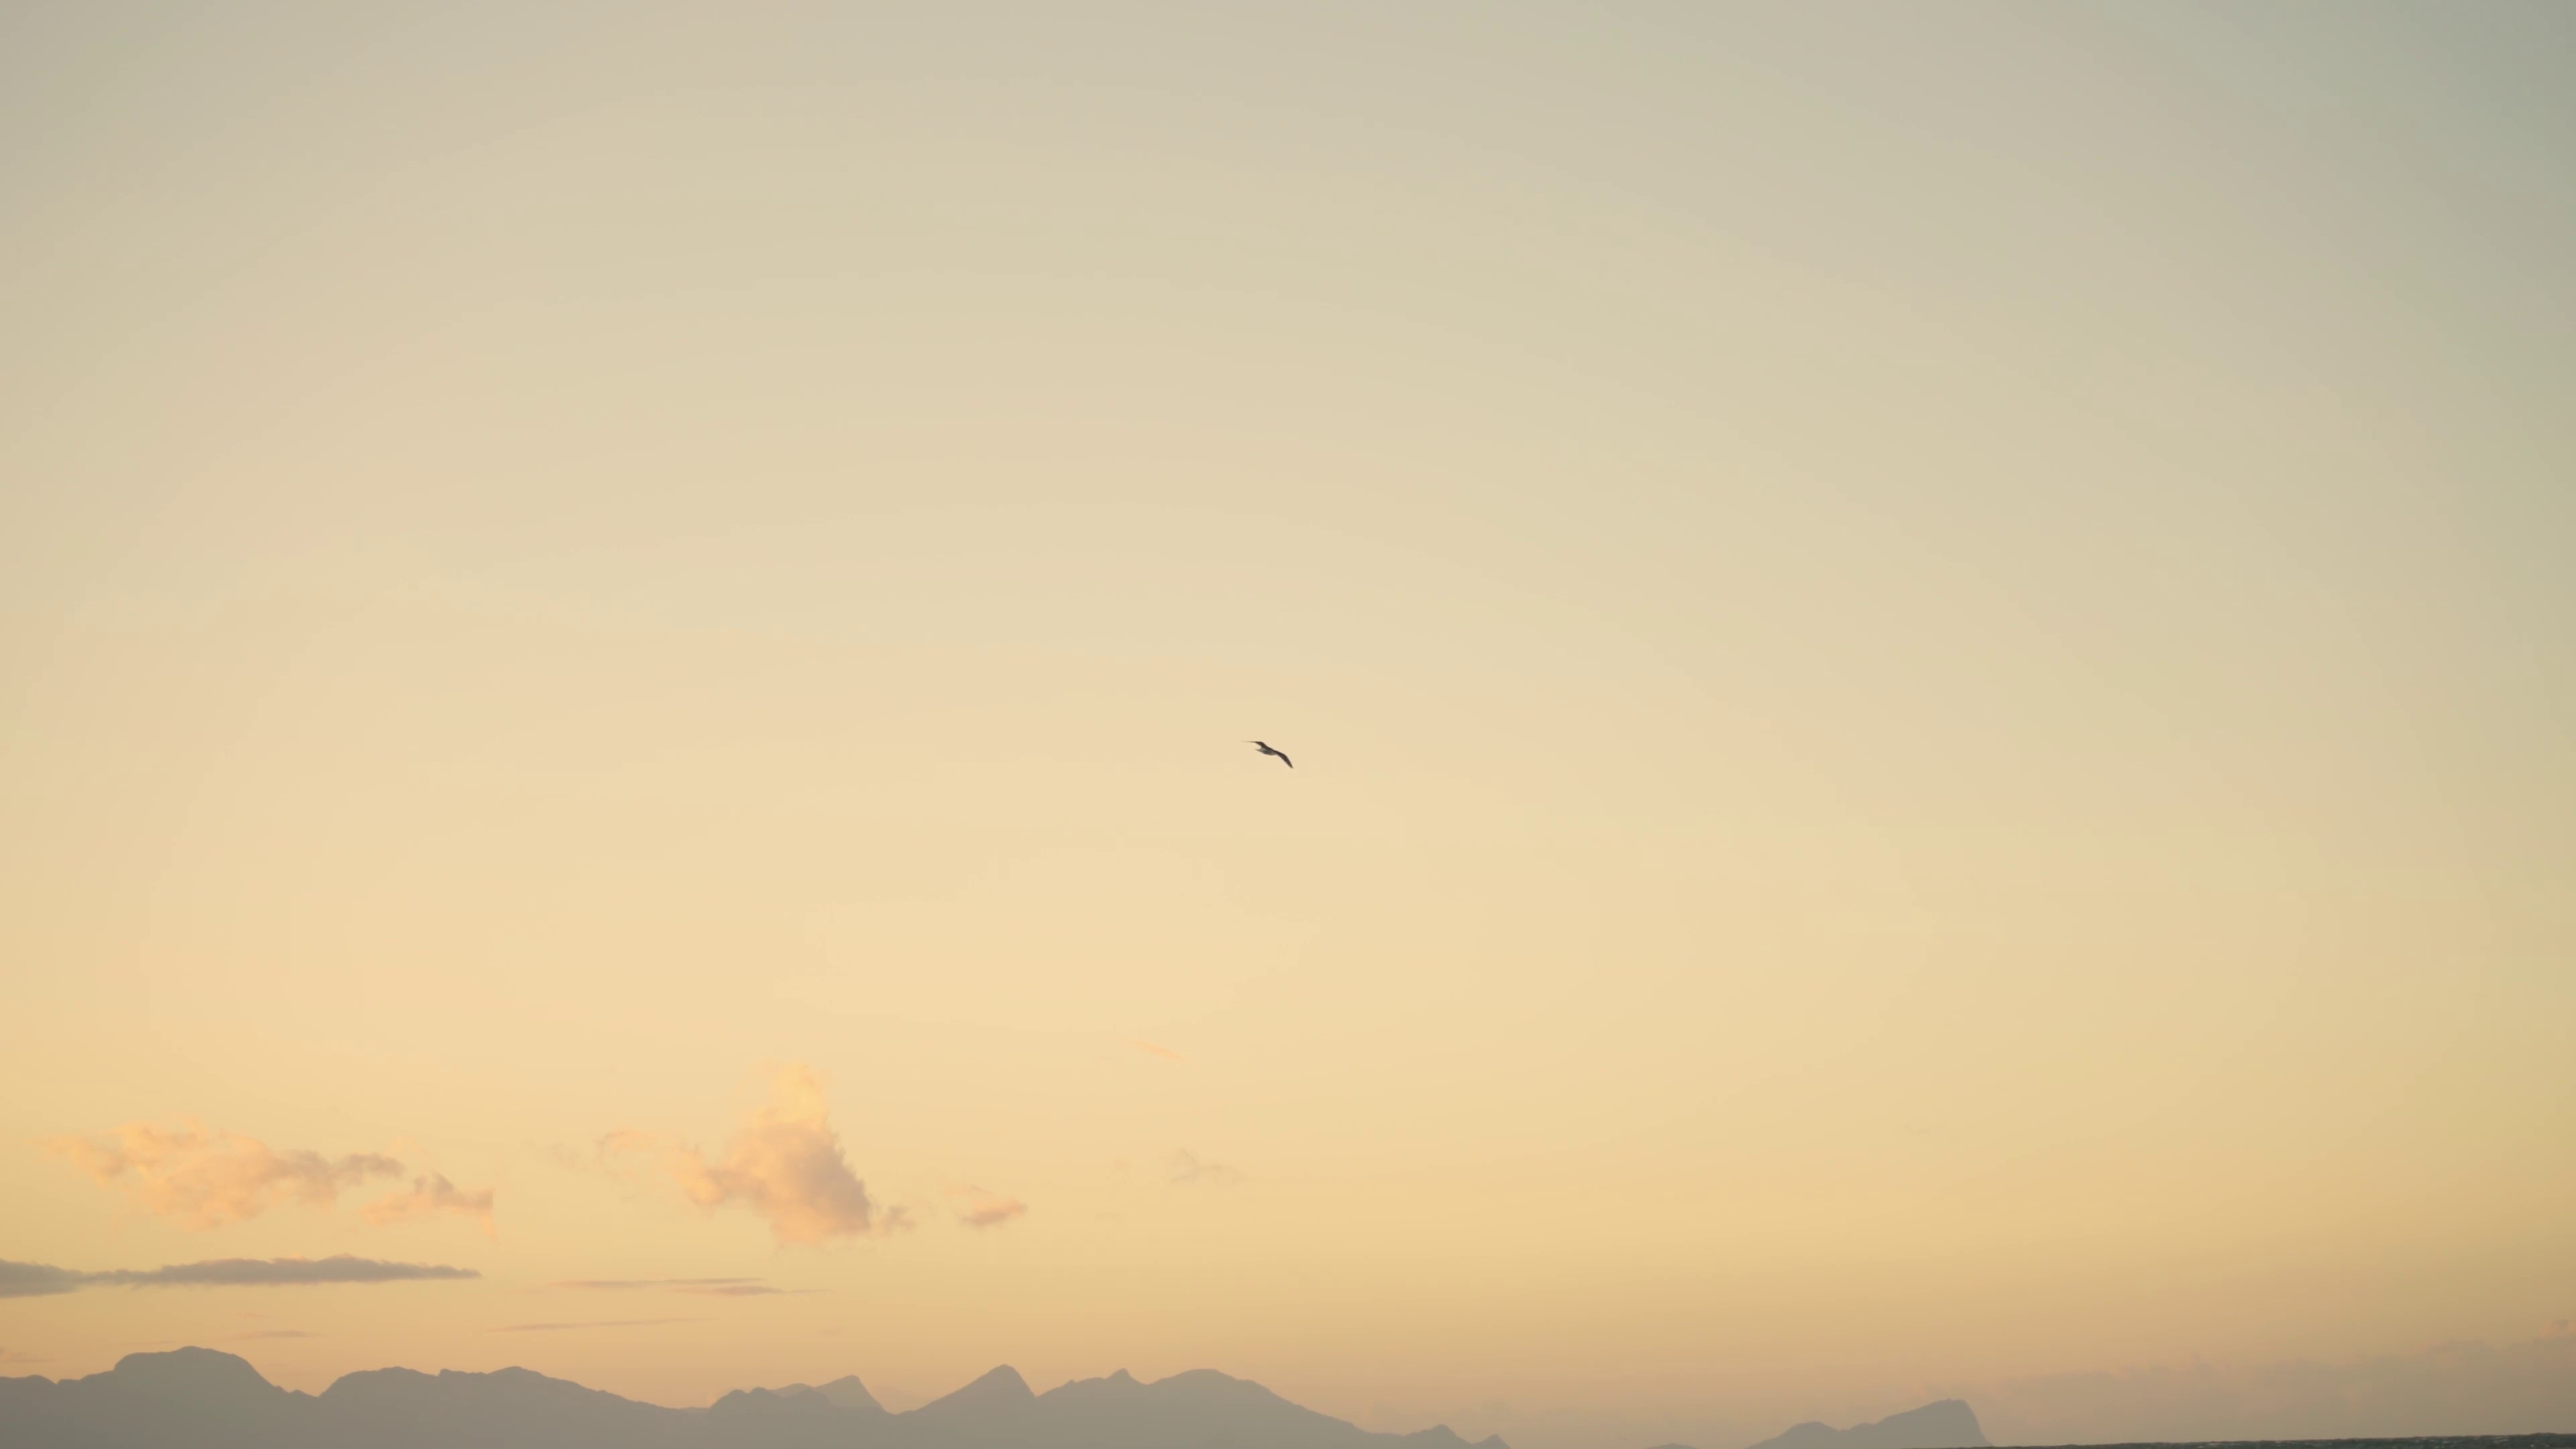bird: (1246, 740, 1293, 770)
